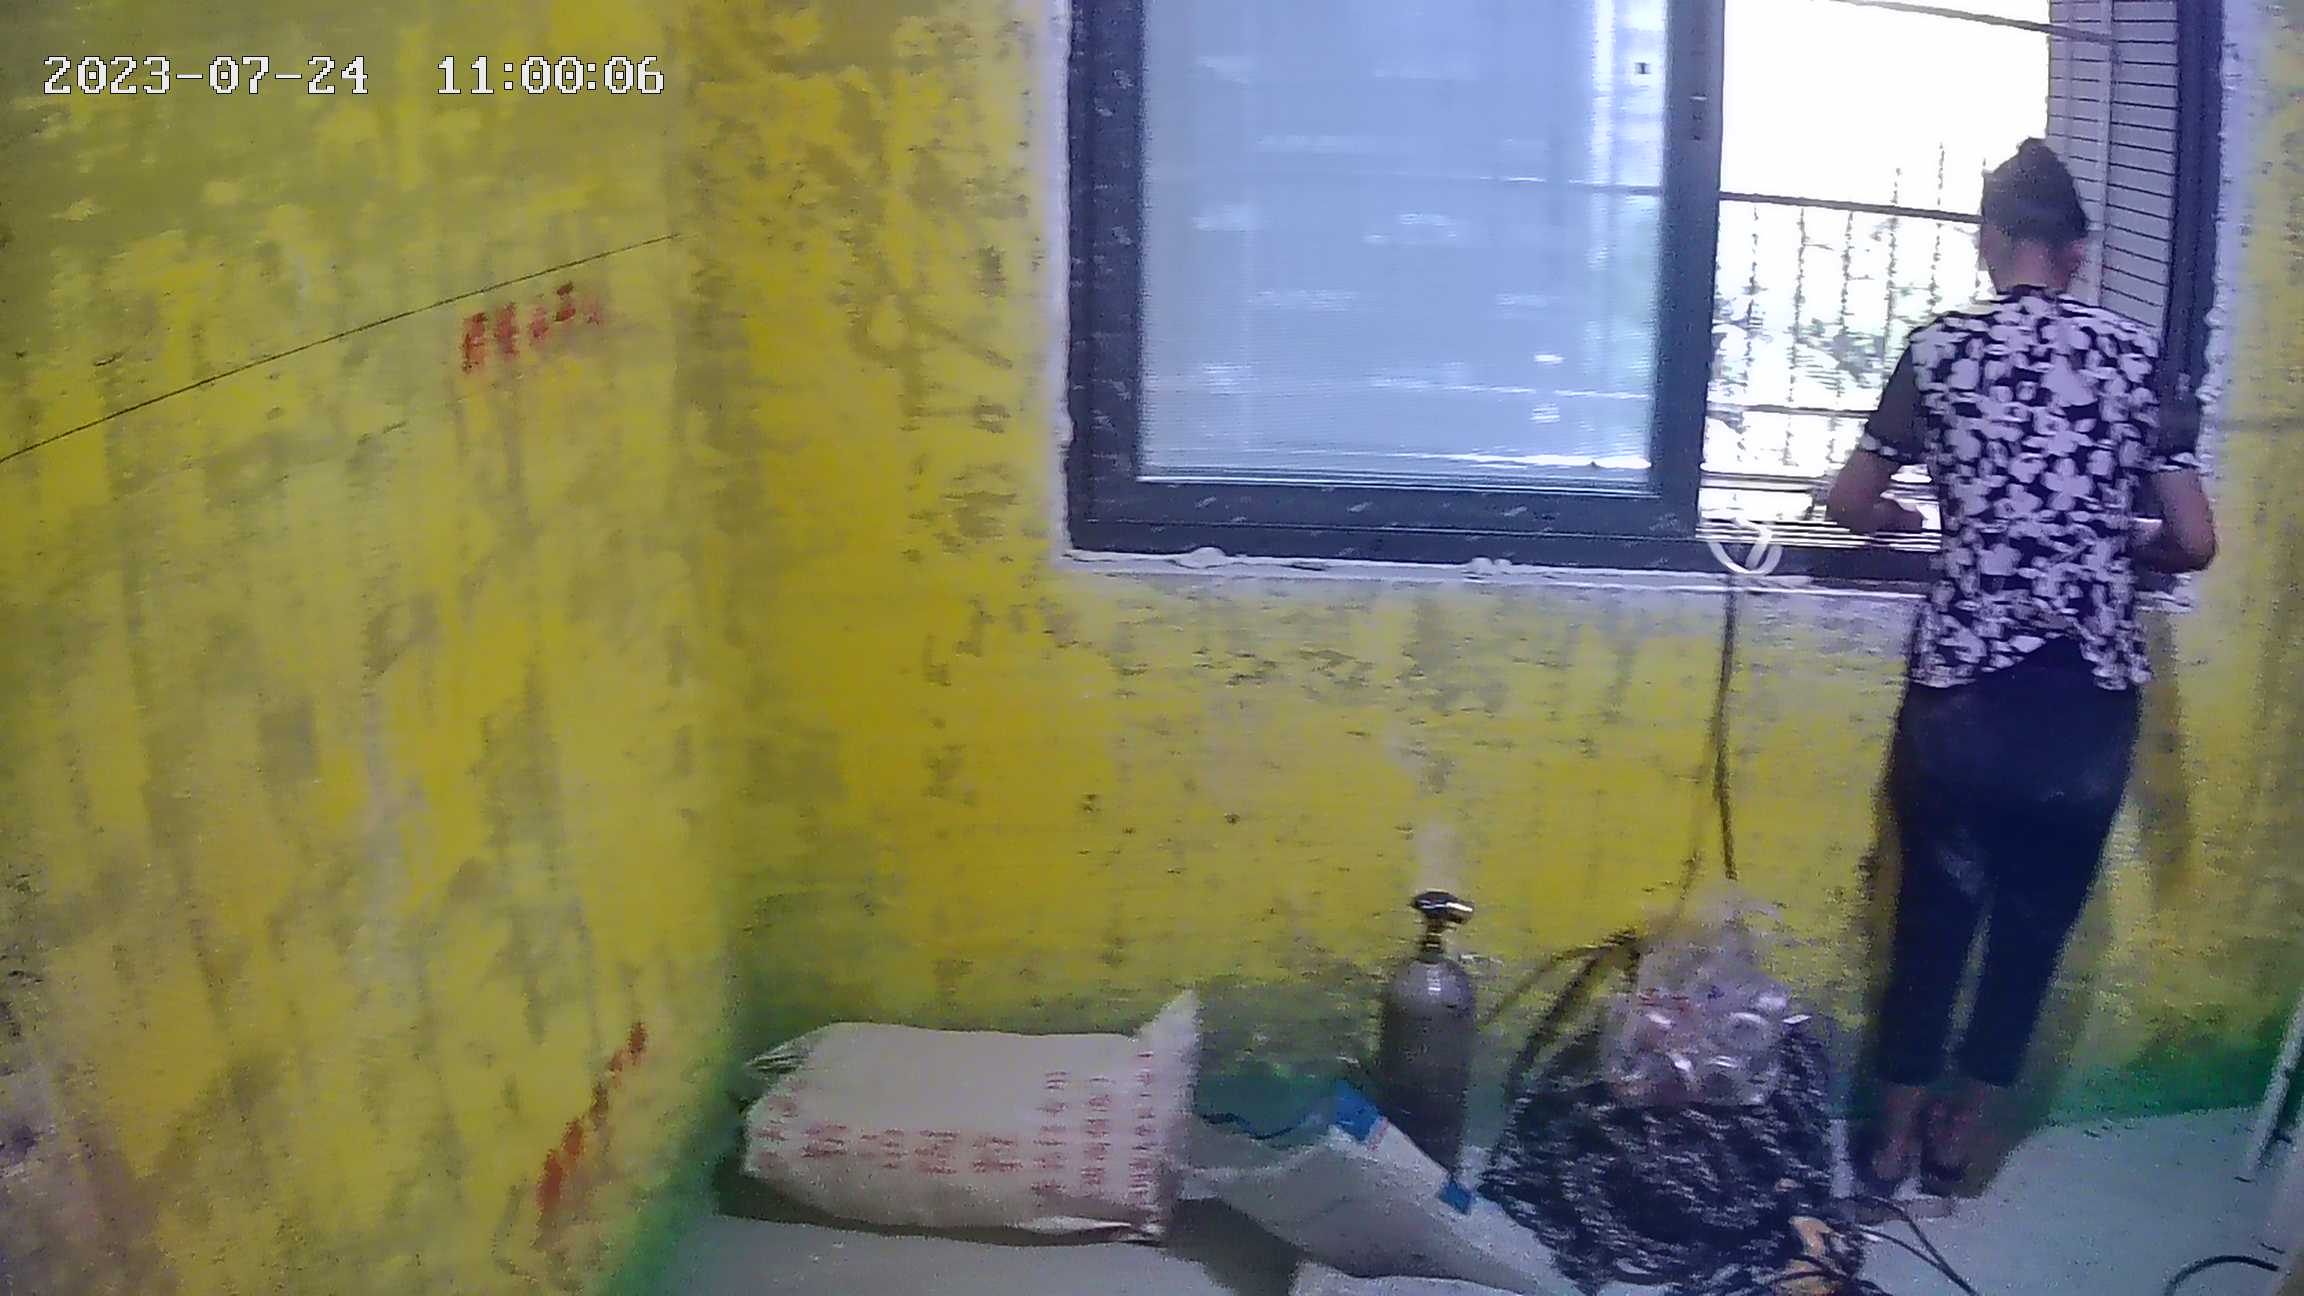people: (1824, 135, 2222, 1201)
window: (1082, 2, 2194, 591)
